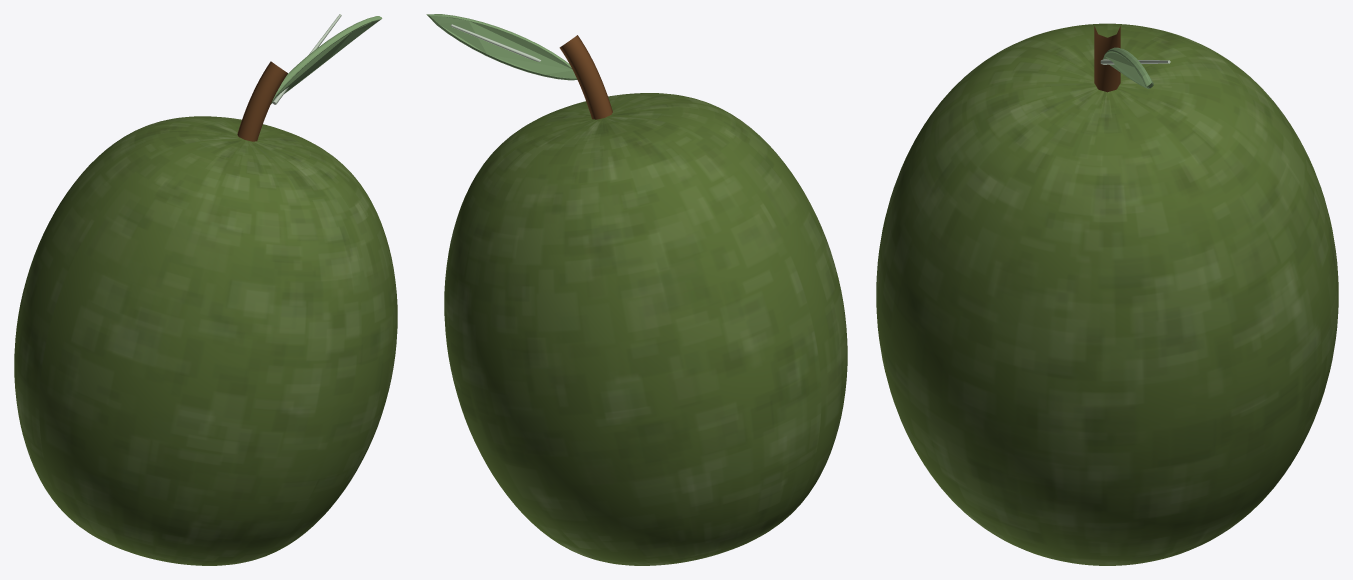
The model's file is olive.glb.
3 views of the same model, side by side, from view 1: azimuth 30°, elevation 25°; view 2: azimuth 150°, elevation 25°; view 3: azimuth 270°, elevation 25° (orthographic). The views are drawn at different scales.
Bounding box in the file's own units: 0.1227 × 0.1539 × 0.112.
4 materials, 1 textured.
